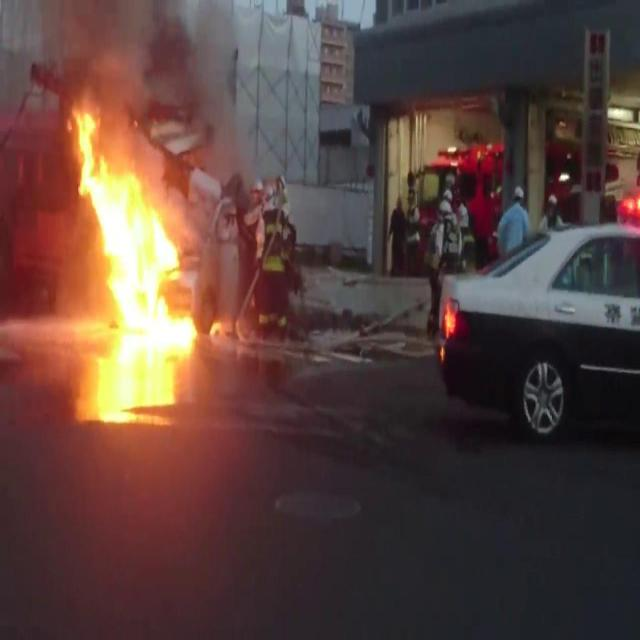Fire: (75, 104, 204, 376)
